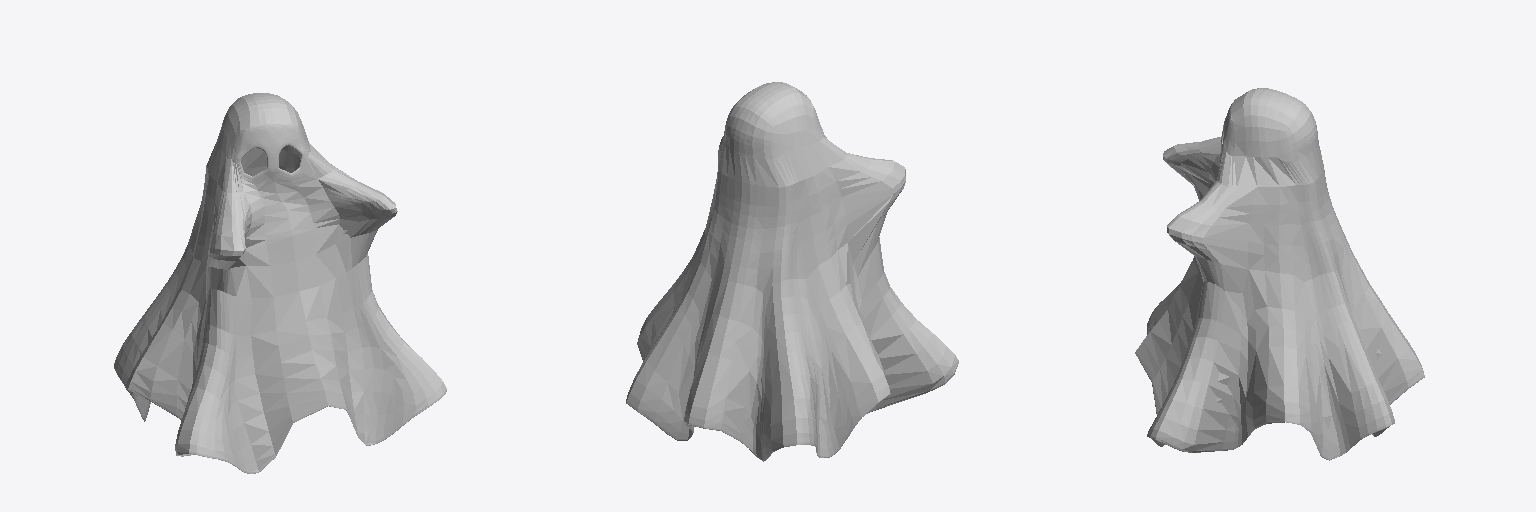
3 views of the same model, side by side, from view 1: azimuth 30°, elevation 25°; view 2: azimuth 150°, elevation 25°; view 3: azimuth 270°, elevation 25° (orthographic).
Parts seen in each view (by area): view 1: youlinguu2:Group3 walk1; view 2: youlinguu2:Group3 walk1; view 3: youlinguu2:Group3 walk1.
Boxes of the visible parts, box(x1,y1,x2,y2) form: youlinguu2:Group3 walk1: box(114, 93, 446, 473); youlinguu2:Group3 walk1: box(626, 82, 958, 461); youlinguu2:Group3 walk1: box(1135, 88, 1424, 460).
Size of the model in its own units: 33.71 by 39.62 by 32.